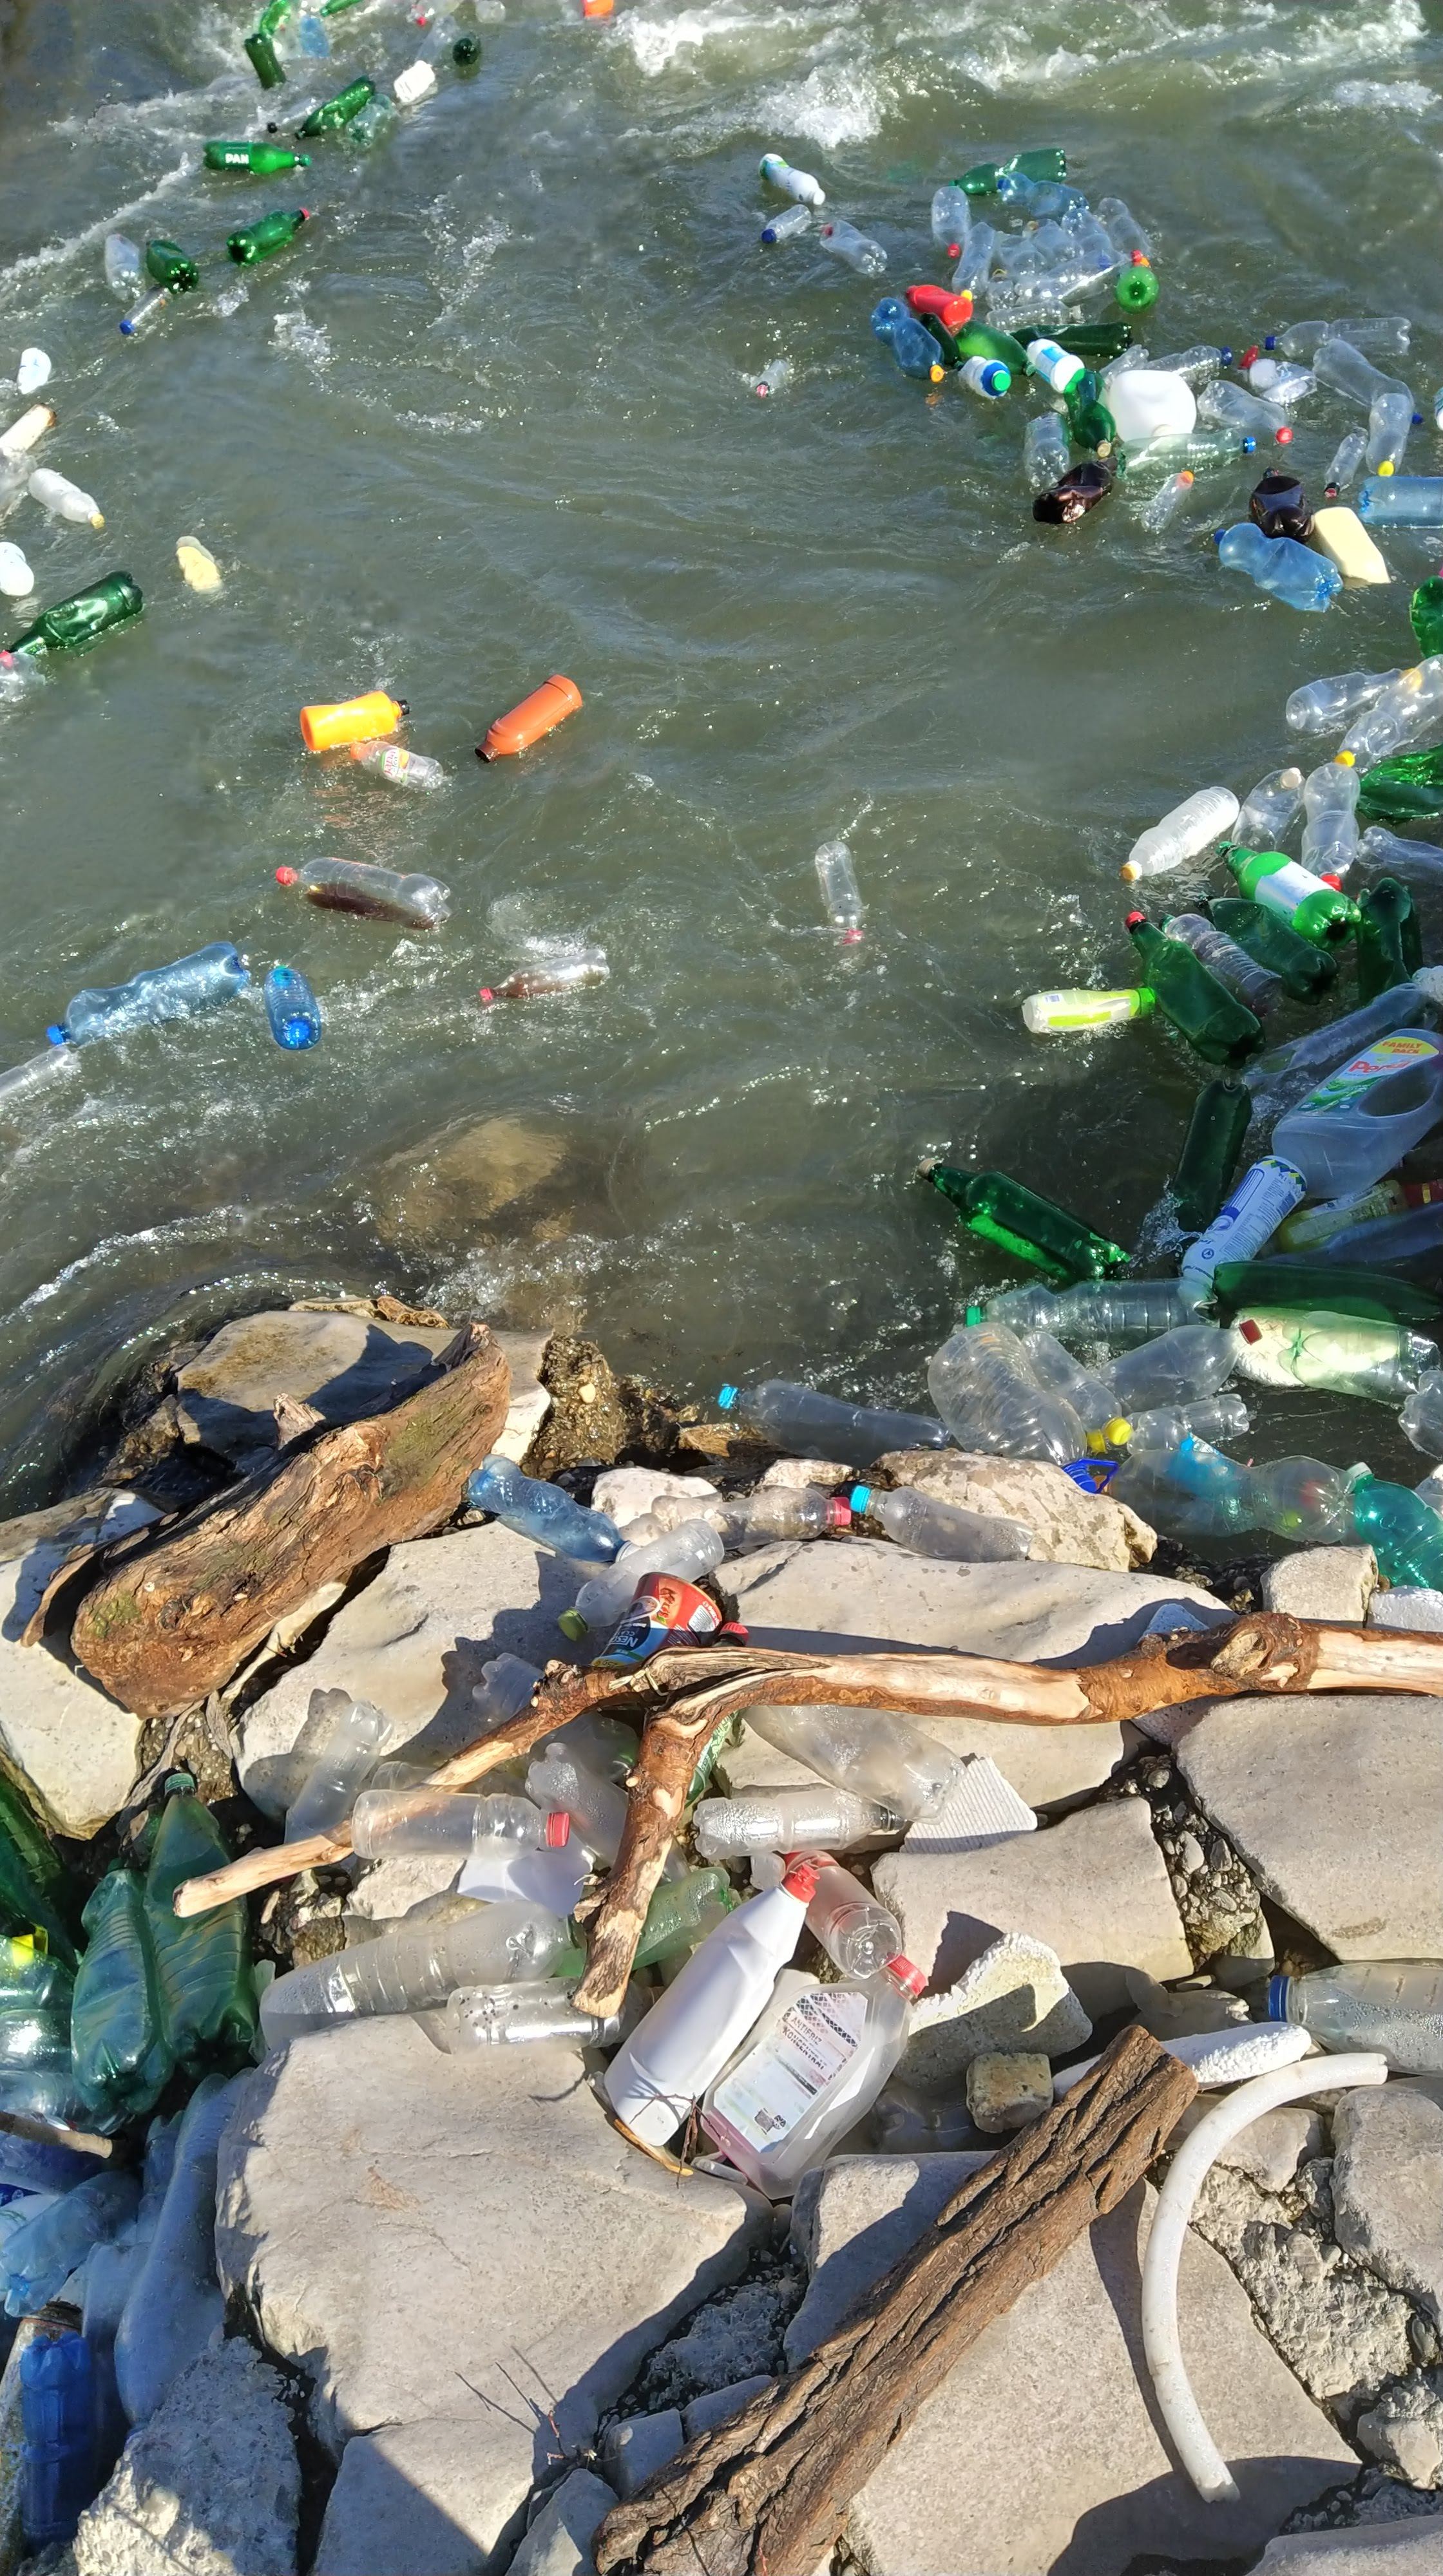Plastic Bottle: (1271, 1028, 1443, 1198), (928, 1322, 1096, 1493), (919, 1157, 1130, 1284), (1094, 1449, 1354, 1543), (1241, 982, 1443, 1095), (1126, 911, 1266, 1069), (717, 1378, 951, 1468), (48, 941, 250, 1044), (965, 1276, 1220, 1348), (1181, 1155, 1307, 1286), (1216, 840, 1362, 950), (1211, 1261, 1443, 1329), (1280, 1309, 1443, 1405), (1197, 895, 1339, 1005), (1100, 1320, 1262, 1410), (1269, 1201, 1443, 1279), (276, 856, 450, 932), (1160, 913, 1287, 1016), (1022, 1330, 1131, 1445), (1335, 653, 1443, 766), (1349, 1461, 1443, 1591), (1174, 1077, 1252, 1231), (0, 571, 143, 653), (1259, 1180, 1408, 1258), (1215, 524, 1342, 612), (1123, 786, 1238, 879), (476, 674, 584, 763), (1356, 878, 1424, 1005), (1285, 667, 1415, 732), (1301, 763, 1358, 890), (1117, 428, 1255, 479), (1312, 338, 1415, 407), (1015, 249, 1140, 304), (480, 948, 609, 1001), (1358, 745, 1443, 823), (301, 692, 411, 752), (1231, 768, 1307, 853), (1316, 506, 1393, 586), (871, 297, 944, 382), (1197, 379, 1293, 442), (1266, 317, 1409, 359), (1022, 987, 1154, 1031), (1126, 1392, 1248, 1440), (949, 147, 1068, 195), (1032, 458, 1117, 524), (0, 1040, 80, 1106), (296, 76, 375, 140), (1358, 826, 1441, 886), (1248, 467, 1314, 543), (264, 964, 320, 1051), (1062, 368, 1115, 458), (227, 209, 308, 267), (1239, 345, 1317, 403), (954, 320, 1034, 377), (1126, 1412, 1227, 1456), (28, 467, 104, 525), (351, 741, 443, 789), (1011, 322, 1133, 357), (997, 172, 1091, 218), (1358, 476, 1441, 527), (1399, 1371, 1443, 1458), (1367, 393, 1413, 476), (202, 140, 310, 175), (820, 219, 887, 274), (1096, 196, 1149, 265), (1138, 345, 1232, 382), (951, 223, 995, 301), (760, 154, 825, 205), (1023, 412, 1069, 485), (1142, 471, 1193, 534), (1027, 338, 1085, 393), (145, 239, 200, 295), (104, 234, 147, 303), (984, 301, 1082, 331), (1023, 218, 1084, 265), (931, 186, 970, 258), (1324, 433, 1369, 497), (0, 403, 55, 455), (1409, 575, 1443, 658), (907, 285, 974, 324), (120, 283, 170, 334), (345, 94, 393, 147), (921, 311, 963, 370), (244, 34, 287, 90), (0, 449, 34, 518), (958, 356, 1011, 398), (1062, 209, 1115, 251), (0, 653, 46, 699), (997, 232, 1046, 274), (1115, 267, 1158, 315), (761, 203, 811, 244), (267, 97, 324, 133), (416, 14, 457, 62), (393, 60, 436, 103), (0, 541, 34, 594), (1100, 343, 1149, 377), (16, 349, 51, 395), (416, 0, 464, 27), (756, 359, 790, 396), (301, 14, 329, 57), (260, 0, 290, 37), (986, 269, 1013, 310), (278, 25, 303, 57), (475, 0, 505, 23), (320, 0, 361, 16), (583, 0, 613, 18), (1434, 386, 1443, 430)
